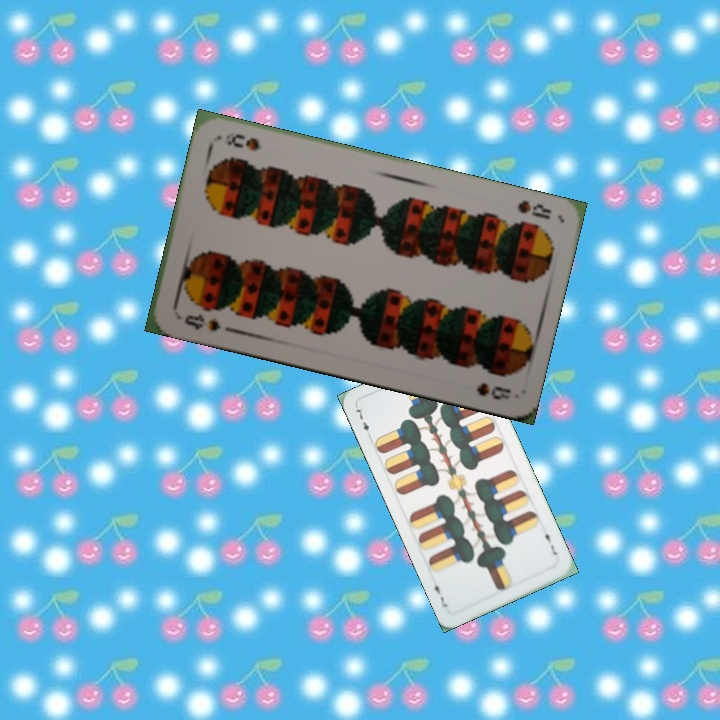E7: (352, 403, 374, 441), (541, 525, 560, 558)
S8: (180, 309, 223, 334), (513, 196, 554, 222)
